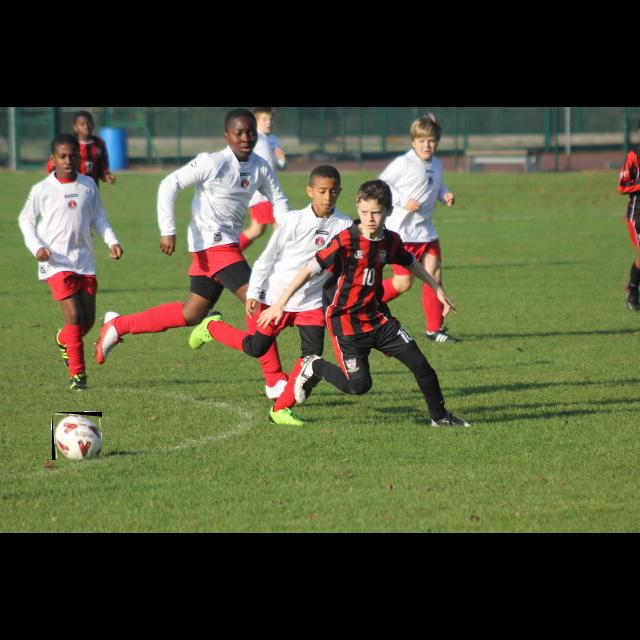Football: (52, 412, 102, 460)
